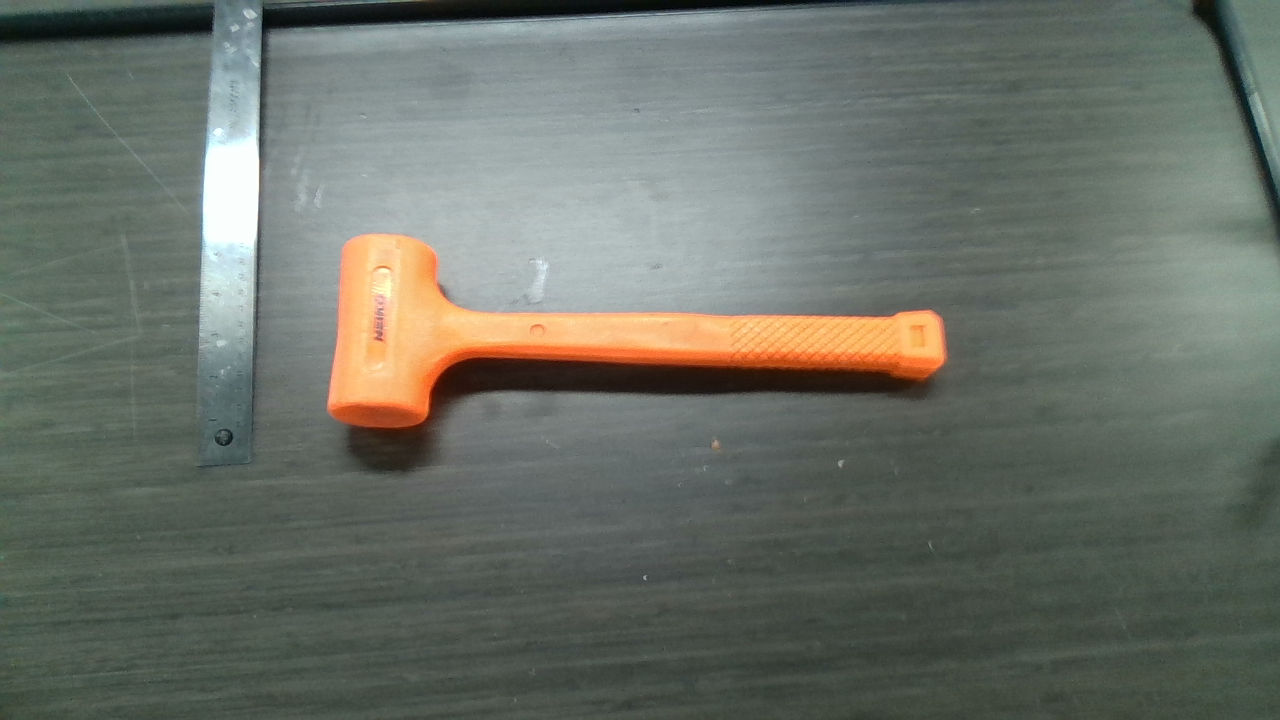Orange Hammer: (332, 236, 944, 428)
